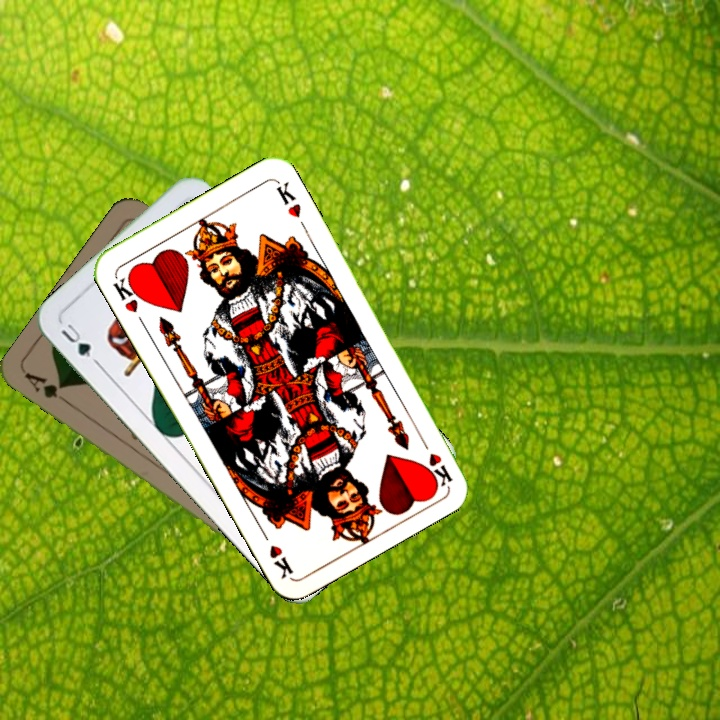GA: (21, 368, 73, 408)
GU: (56, 317, 94, 360)
HK: (415, 432, 455, 488), (108, 271, 146, 316)
